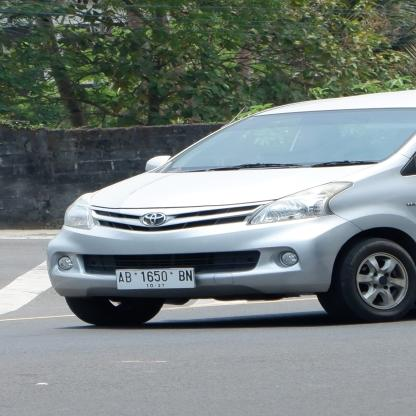Plat-Nomor: (114, 267, 199, 292)
